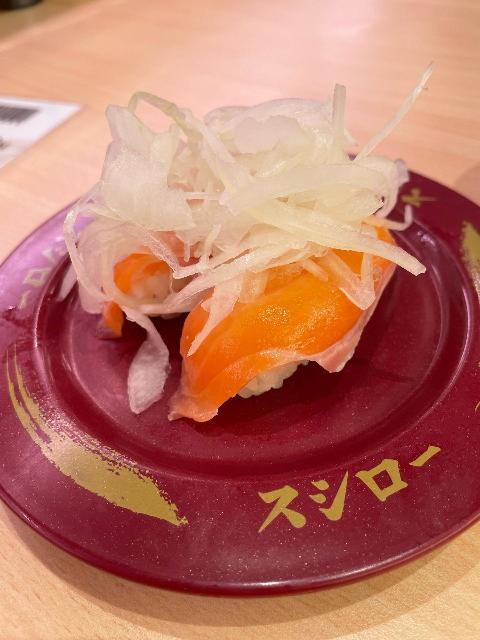janred: (13, 171, 480, 548)
